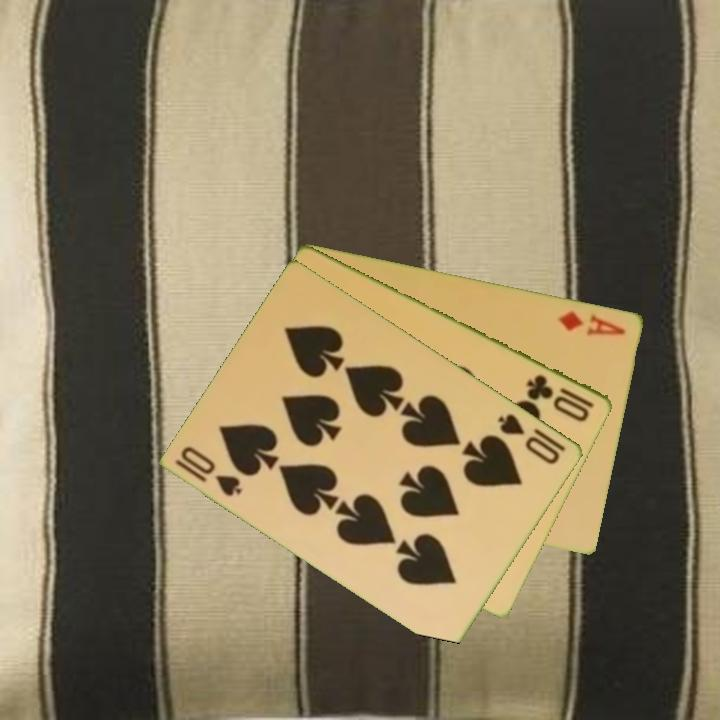10c: (523, 370, 598, 425)
10s: (494, 409, 570, 468), (171, 442, 246, 500)
Ad: (555, 307, 629, 339)
